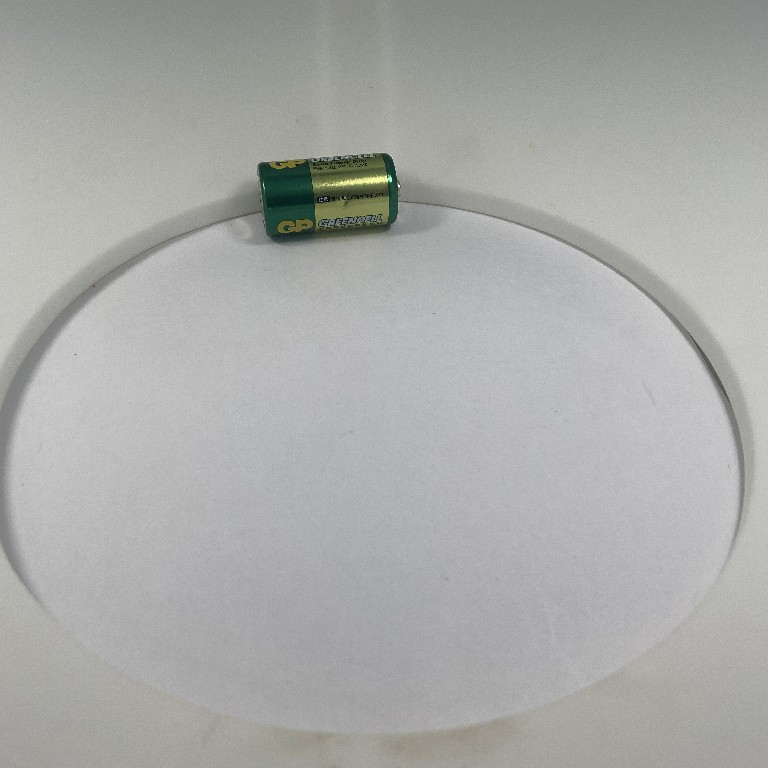charge: (252, 151, 404, 242)
